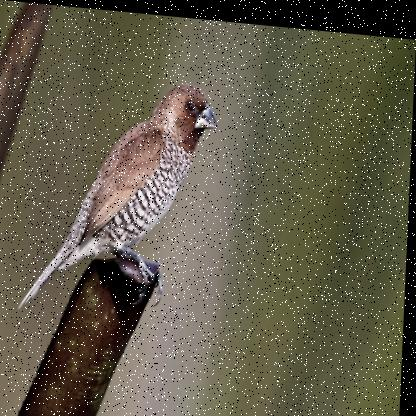Burung: (20, 67, 219, 325)
